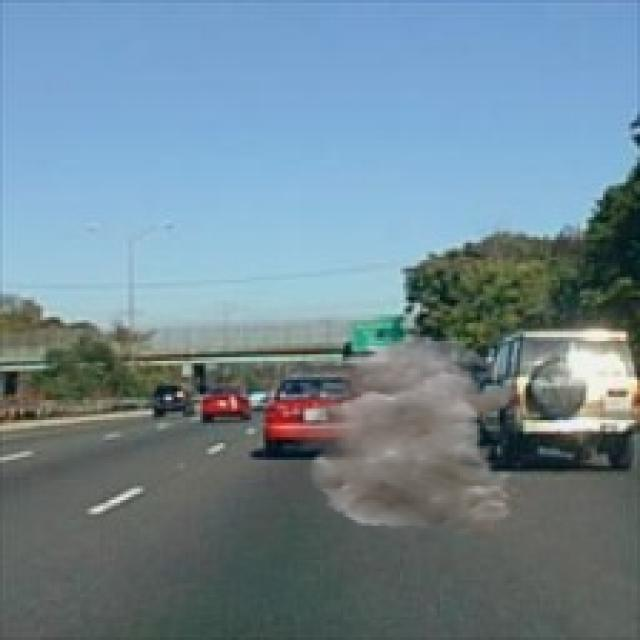Smoke: (280, 334, 523, 537)
